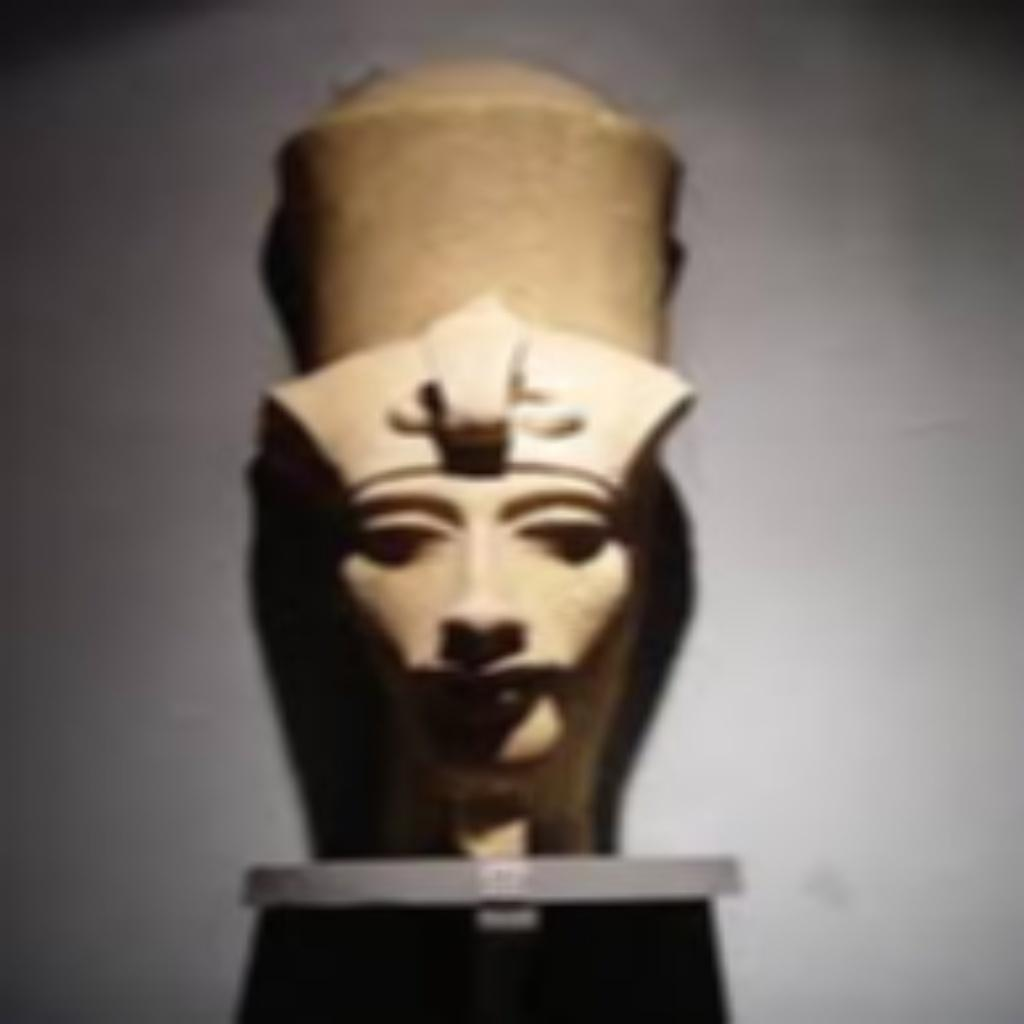Akhenaten: (238, 40, 710, 864)
